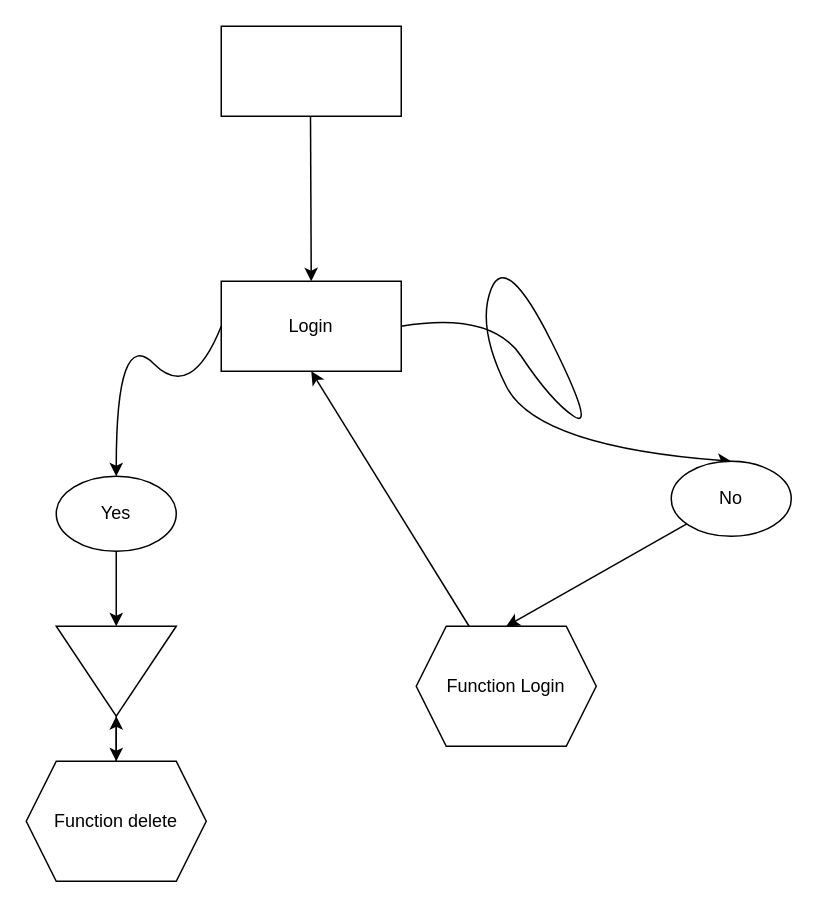
Image size: 818x908. Some labels were removed from this diagram. Here are the shapes that lost their labels. From the top down, the box of each, then its label:
(220, 25, 401, 116): Main
(55, 625, 176, 716): FOR
